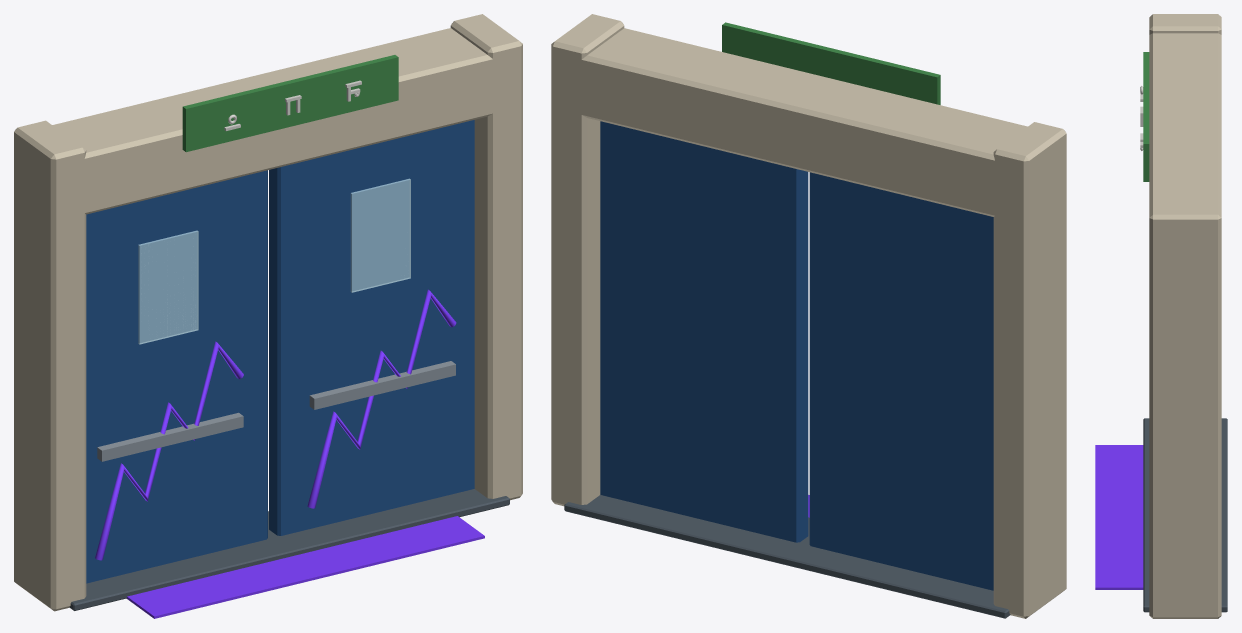
File: boss_gate.fbx
3 renders of one model, left to right at view 1: azimuth 30°, elevation 25°; view 2: azimuth 150°, elevation 25°; view 3: azimuth 270°, elevation 25°, orthographic. The views are drawn at different scales.
Visible parts, largest first — view 1: boss_gate; view 2: boss_gate; view 3: boss_gate.
Boxes of the visible parts, x1,y1,x2,y2 form: boss_gate: [14, 14, 522, 618]; boss_gate: [551, 14, 1066, 618]; boss_gate: [1095, 14, 1227, 618].
Bounding box in the file's own units: 4 × 3.85 × 1.1.
